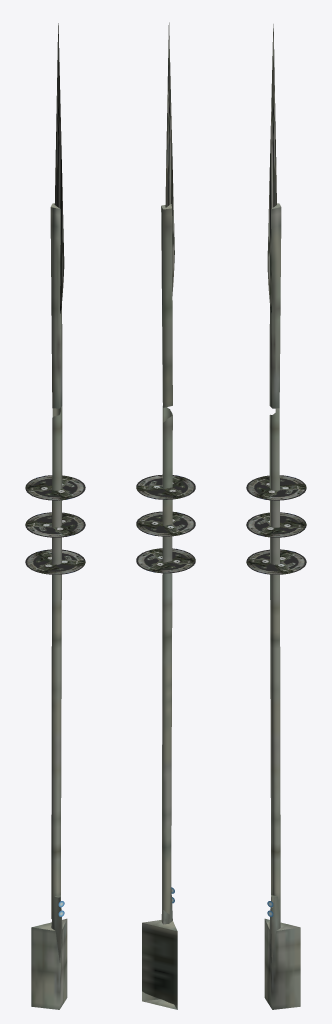
The model's file is thm_corl_power_arial_thin_l2.fbx.
3 views of the same model, side by side, from view 1: azimuth 30°, elevation 25°; view 2: azimuth 150°, elevation 25°; view 3: azimuth 330°, elevation 25° (orthographic).
Parts seen in each view (by area): view 1: mesh_node; view 2: mesh_node; view 3: mesh_node.
Boxes of the visible parts, x1,y1,x2,y2 form: mesh_node: (25, 23, 85, 1009); mesh_node: (136, 22, 195, 1009); mesh_node: (246, 24, 306, 1009).
Size of the model in its own units: 0.7343 by 13.4 by 0.7343.
